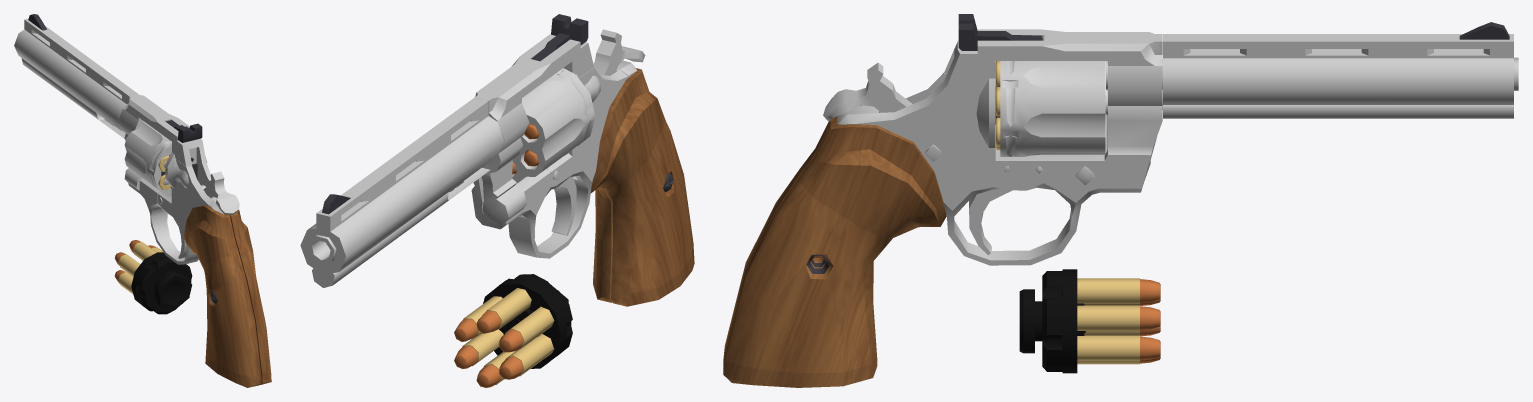
The model's file is low-poly_python_revolver.glb.
3 renders of one model, left to right at view 1: azimuth 30°, elevation 25°; view 2: azimuth 150°, elevation 25°; view 3: azimuth 270°, elevation 25°, orthographic. The views are drawn at different scales.
Parts seen in each view (by area): view 1: grip_L_4, barrel_17, frame_5, grip_R_2, drum_14, speedloader_19, side_plate_3, speedloader_grip_18, hammer_1, cylinder_release_6, cartridge.010_25, cartridge.011_26 (+2 smaller); view 2: grip_L_4, barrel_17, frame_5, drum_14, side_plate_3, speedloader_19, crane_arm_16, grip_R_2, cartridge.011_26, cartridge.010_25, hammer_1, cartridge.009_24 (+4 smaller); view 3: grip_R_2, frame_5, barrel_17, drum_14, speedloader_19, hammer_1, cartridge.007_22, cartridge.006_21, cartridge.011_26, speedloader_grip_18, grip_L_4, trigger_7.
Part boxes in pixels (left/top/right/bottom): grip_L_4: left=184, top=205, right=261, bottom=387; barrel_17: left=14, top=14, right=136, bottom=138; frame_5: left=117, top=93, right=223, bottom=264; grip_R_2: left=229, top=210, right=271, bottom=384; drum_14: left=124, top=121, right=207, bottom=196; speedloader_19: left=131, top=252, right=192, bottom=314; side_plate_3: left=158, top=159, right=212, bottom=233; speedloader_grip_18: left=154, top=270, right=189, bottom=310; hammer_1: left=201, top=171, right=239, bottom=214; cylinder_release_6: left=165, top=152, right=188, bottom=188; cartridge.010_25: left=114, top=252, right=140, bottom=276; cartridge.011_26: left=129, top=240, right=156, bottom=260; grip_L_4: left=590, top=68, right=694, bottom=306; barrel_17: left=300, top=97, right=504, bottom=287; frame_5: left=471, top=14, right=637, bottom=258; drum_14: left=512, top=68, right=595, bottom=183; side_plate_3: left=547, top=68, right=628, bottom=187; speedloader_19: left=483, top=274, right=572, bottom=368; crane_arm_16: left=481, top=137, right=526, bottom=225; grip_R_2: left=593, top=187, right=612, bottom=302; cartridge.011_26: left=476, top=288, right=531, bottom=333; cartridge.010_25: left=499, top=307, right=554, bottom=352; hammer_1: left=593, top=29, right=645, bottom=75; cartridge.009_24: left=499, top=334, right=554, bottom=379; grip_R_2: left=723, top=120, right=946, bottom=387; frame_5: left=837, top=14, right=1162, bottom=265; barrel_17: left=1106, top=22, right=1518, bottom=118; drum_14: left=1000, top=61, right=1105, bottom=156; speedloader_19: left=1042, top=269, right=1077, bottom=373; hammer_1: left=823, top=62, right=912, bottom=121; cartridge.007_22: left=1077, top=336, right=1160, bottom=361; cartridge.006_21: left=1077, top=305, right=1160, bottom=330; cartridge.011_26: left=1077, top=278, right=1160, bottom=303; speedloader_grip_18: left=1019, top=289, right=1042, bottom=353; grip_L_4: left=723, top=105, right=877, bottom=366; trigger_7: left=969, top=166, right=1012, bottom=254.
Size of the model in its own units: 0.0385 by 0.143 by 0.2932.
8 materials, 1 textured.
